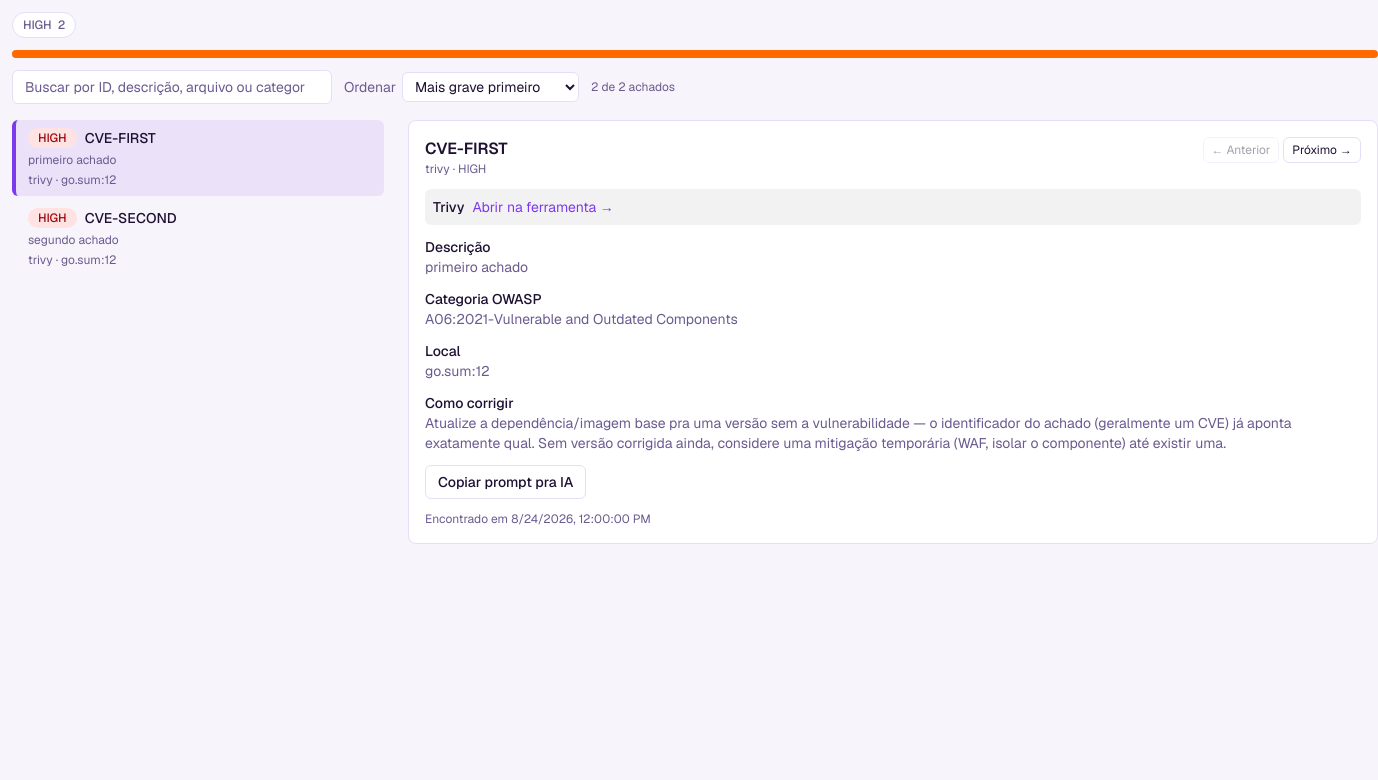
Test case: FindingsTable › clicar num outro achado da lista troca o que aparece no painel de detalhe
Expected: the element named "Detalhe do achado" is shown, [408,120,1377,544]
Expected: the text "primeiro achado" below "Descrição" is shown, [425,258,528,276]
Click the option with aria-label "Ver detalhes do achado CVE-SECOND". click: (102, 238)
box: [28,208,176,268]
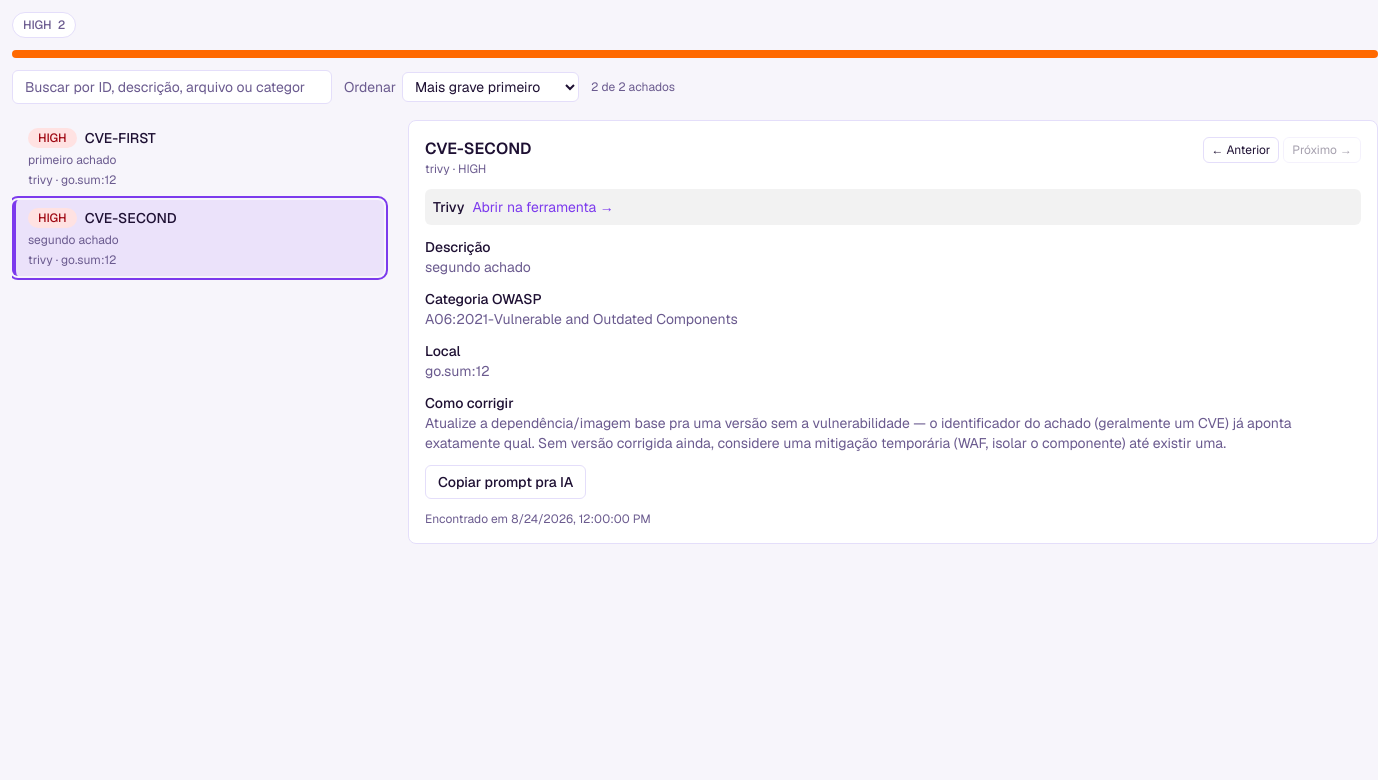
Now the text "segundo achado" below "Descrição" is shown, box [425,258,531,276]
